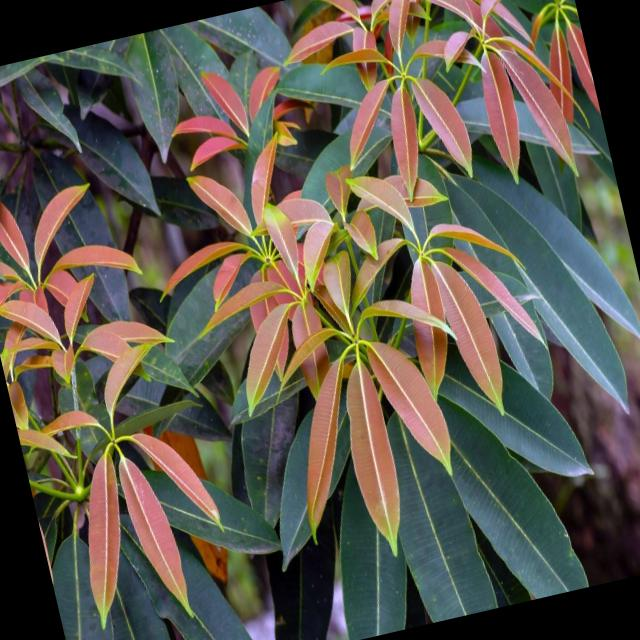Indian Pulai: (135, 0, 474, 443), (44, 362, 352, 640), (326, 0, 626, 279), (225, 174, 479, 490), (0, 198, 206, 461)
